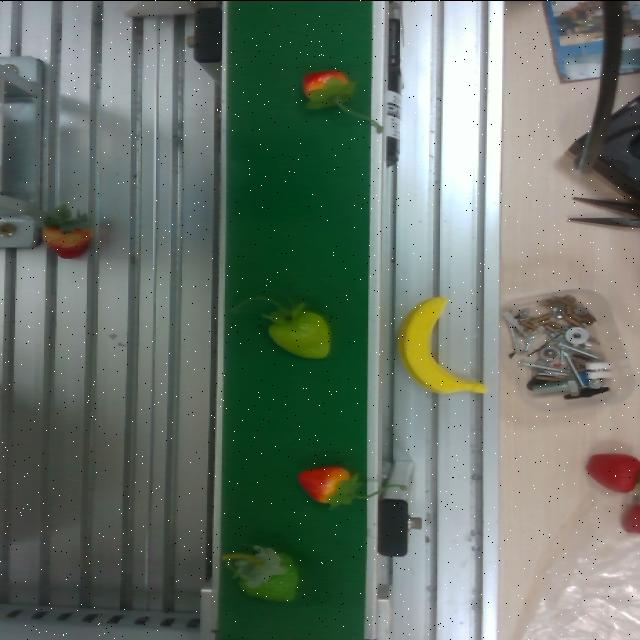Small Unripe Strawberry: (248, 296, 335, 360), (222, 551, 310, 606), (295, 448, 369, 511), (286, 56, 358, 116)
conveyor: (205, 0, 389, 640)
